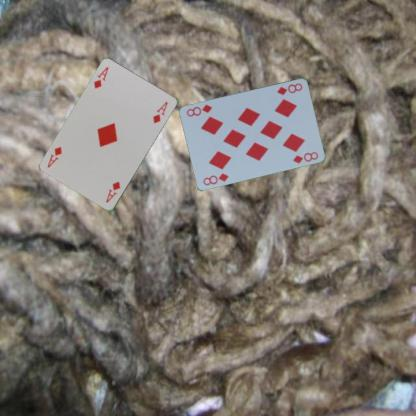8d: (274, 80, 304, 96), (200, 170, 230, 186)
Ad: (103, 179, 122, 205), (91, 65, 110, 90)
